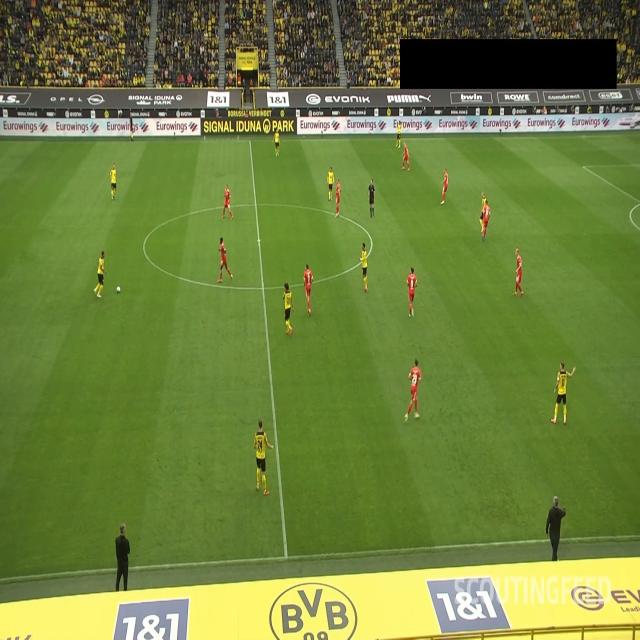ball: (116, 284, 121, 294)
